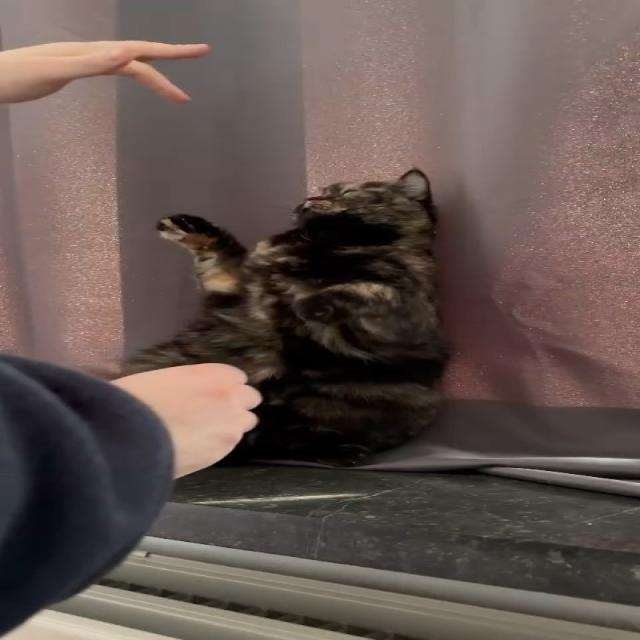authorized: (115, 166, 453, 468)
